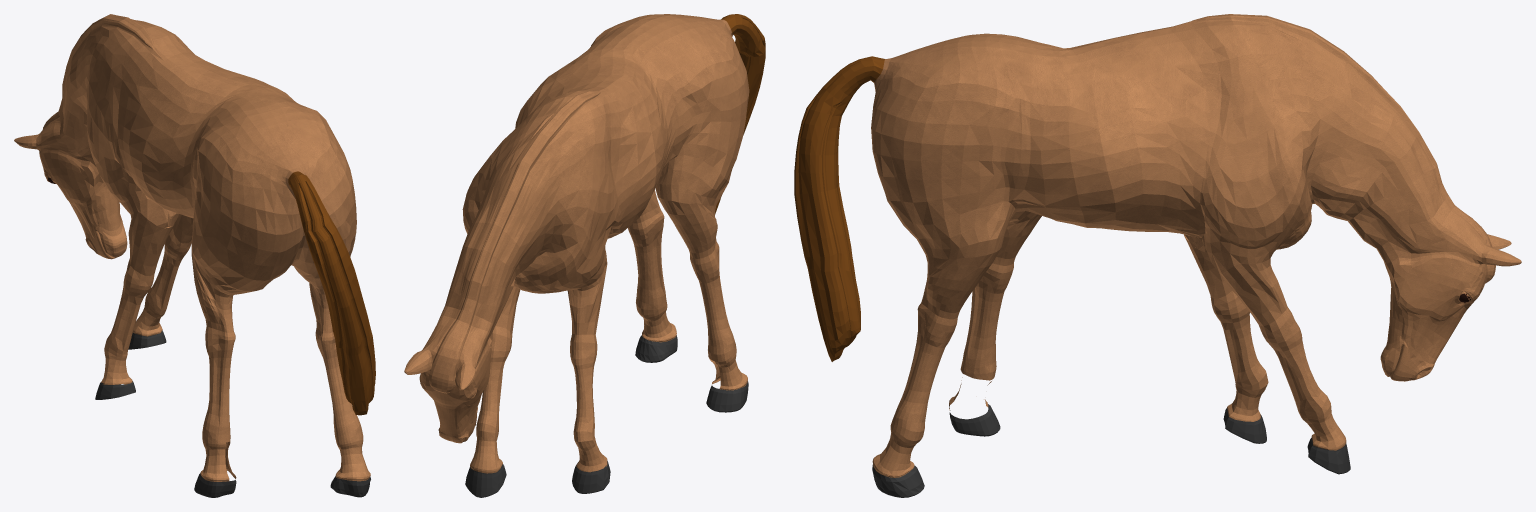
The model's file is horse.gltf.
3 renders of one model, left to right at view 1: azimuth 30°, elevation 25°; view 2: azimuth 150°, elevation 25°; view 3: azimuth 270°, elevation 25°, orthographic. The views are drawn at different scales.
Visible parts, largest first — view 1: body, tail, foot; view 2: body, foot, tail; view 3: body, tail, foot.
Boxes of the visible parts, x1=… form: body: x1=14, y1=14, x2=370, y2=481; tail: x1=288, y1=171, x2=375, y2=415; foot: x1=95, y1=330, x2=370, y2=497; body: x1=404, y1=14, x2=749, y2=473; foot: x1=465, y1=335, x2=748, y2=497; tail: x1=715, y1=14, x2=765, y2=214; body: x1=871, y1=14, x2=1521, y2=477; tail: x1=794, y1=56, x2=885, y2=361; foot: x1=872, y1=404, x2=1350, y2=497.
Size of the model in its own units: 0.0931 by 0.2099 by 0.3172.
Materials: 4 (1 with a texture image).
